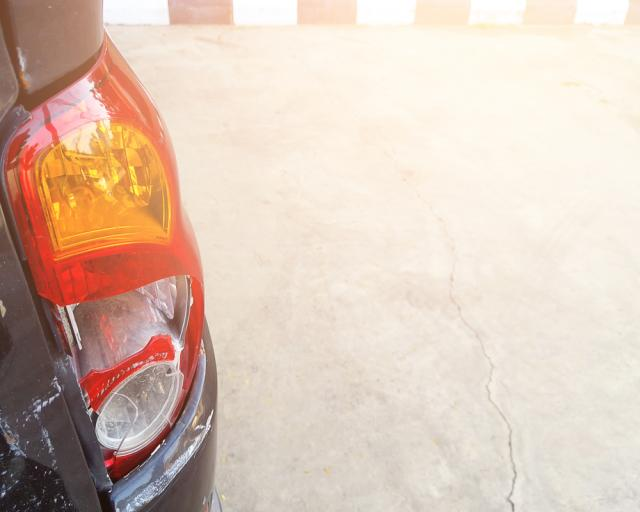lamp broken: (1, 30, 205, 487)
